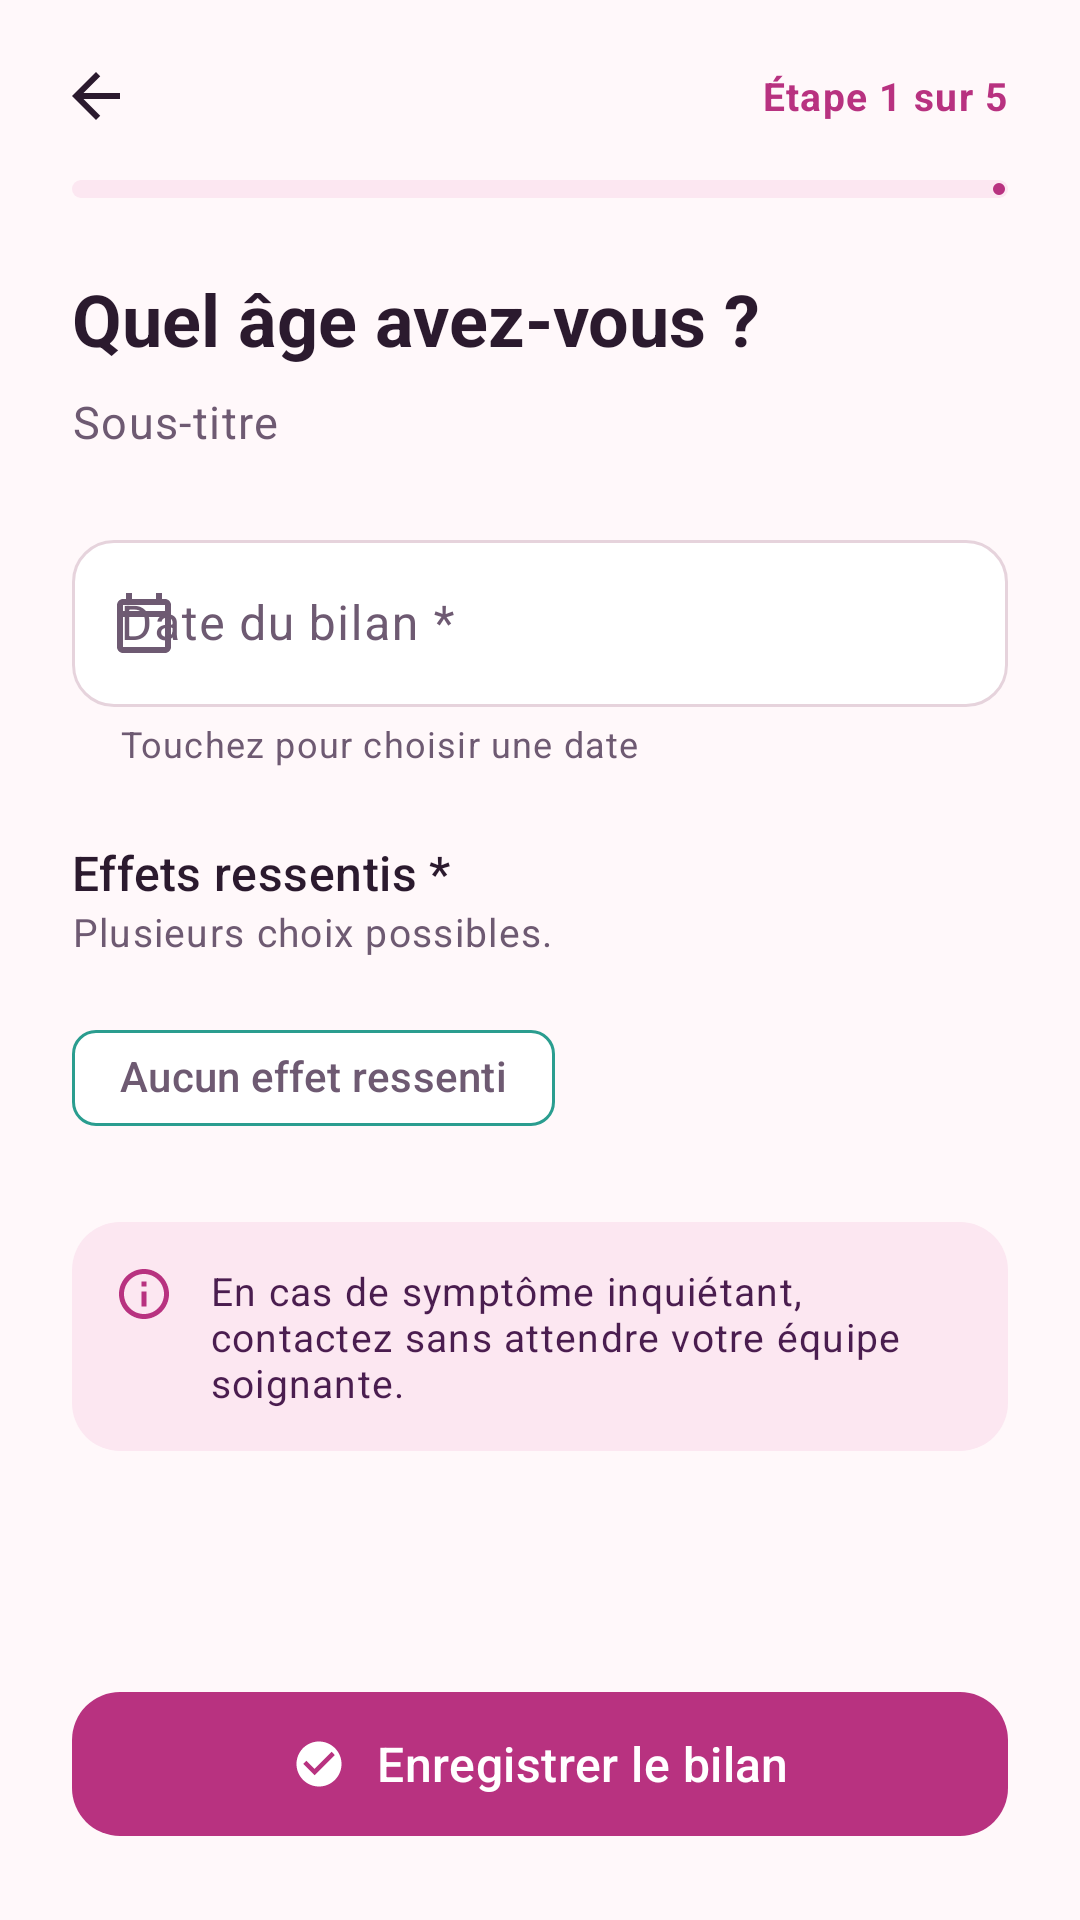

Icons on this 1080px×1920px Android screen, each with its box as (x1, y1, x2, y2):
info: (119, 1269, 169, 1319)
Retour: (72, 72, 120, 120)
